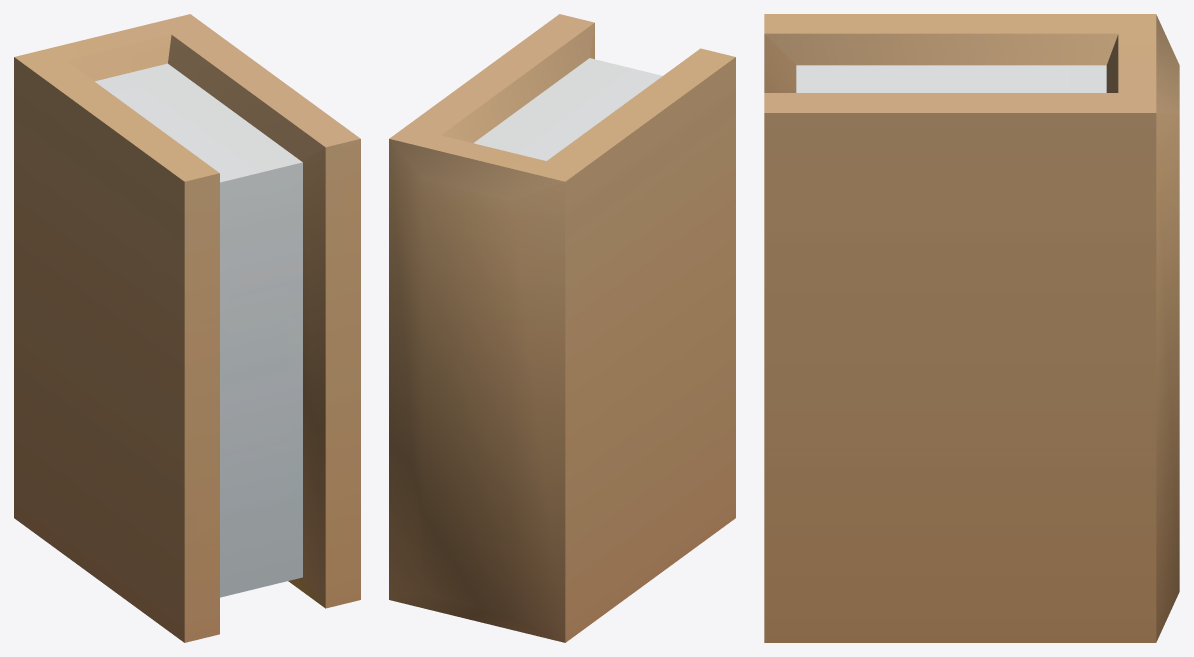
File: book_tan.glb
3 views of the same model, side by side, from view 1: azimuth 30°, elevation 25°; view 2: azimuth 150°, elevation 25°; view 3: azimuth 270°, elevation 25° (orthographic). The views are drawn at different scales.
Parts seen in each view (by area): view 1: book_tan; view 2: book_tan; view 3: book_tan.
Boxes of the visible parts, x1,y1,x2,y2 form: book_tan: (14,14,360,642); book_tan: (389,14,735,642); book_tan: (764,14,1179,642).
Size of the model in its own units: 0.2 by 0.5 by 0.355.
1 material, 1 textured.
